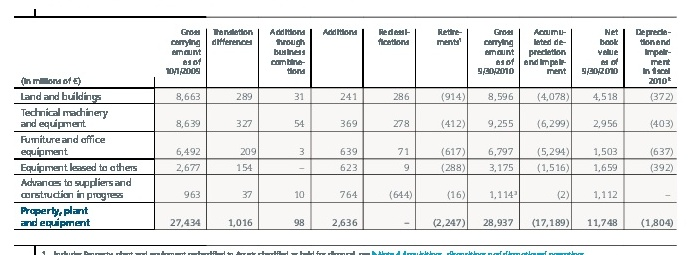table: (0, 0, 693, 255)
